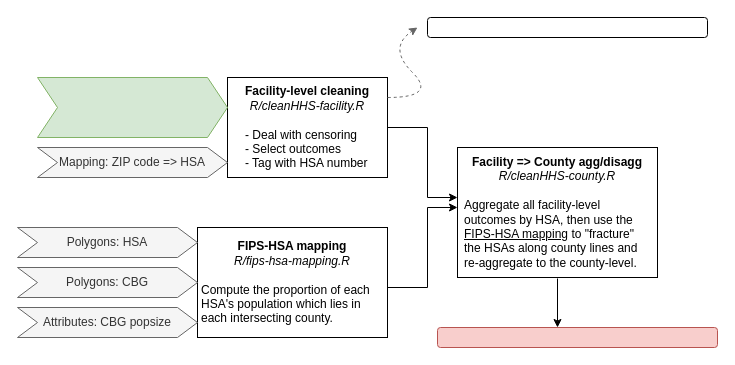
The diagram is 735 pixels wide and 365 high, and some of its shapes have lost their labels. The box of each missing label's shape, as (x1, y1, x2, y2) in pixels:
HHS Weekly Facility-level Hospitalizations: (36, 76, 228, 138)
hhs-hospitalizations-by-county.csv: (436, 326, 718, 348)
hhs-hospitalizations-by-facility.csv: (426, 16, 708, 38)
